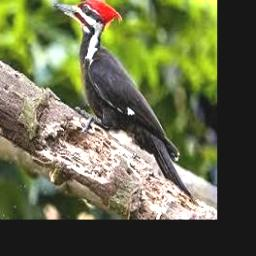Woodpecker: (52, 0, 195, 200)
